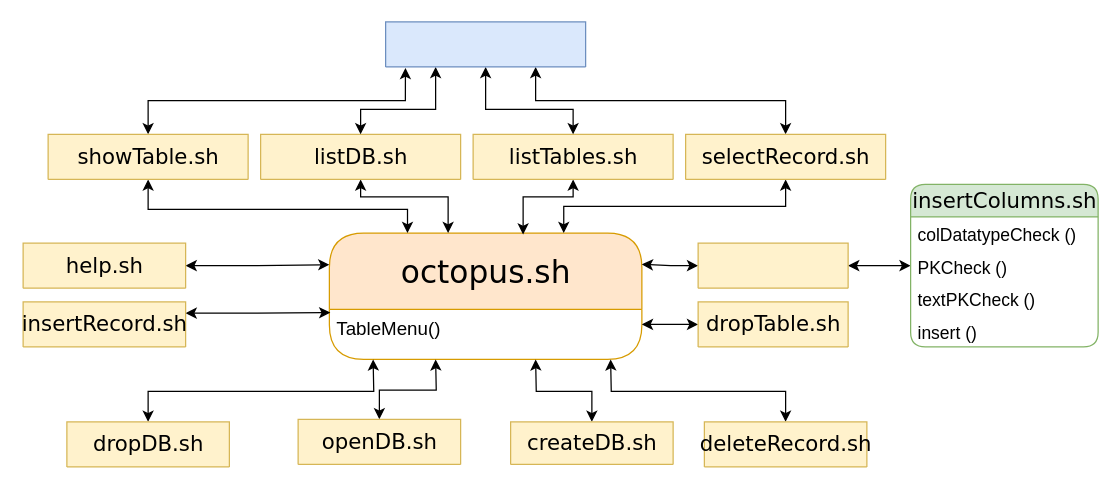
This 1120x489 diagram has some shape labels left out. Each missing label, with the centre of its shape:
createTable.sh: pixel 772 265
printTable.sh: pixel 485 44
